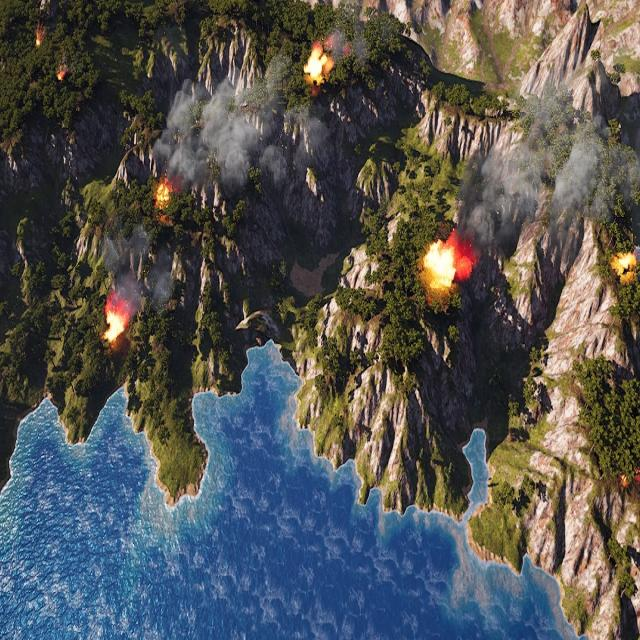fire: (423, 240, 455, 290), (305, 47, 331, 81), (105, 305, 127, 343), (156, 180, 174, 205), (615, 251, 636, 272), (620, 467, 640, 489), (35, 18, 44, 48), (58, 66, 67, 81)
smoke: (454, 102, 640, 245), (155, 70, 288, 192), (105, 231, 173, 308)
